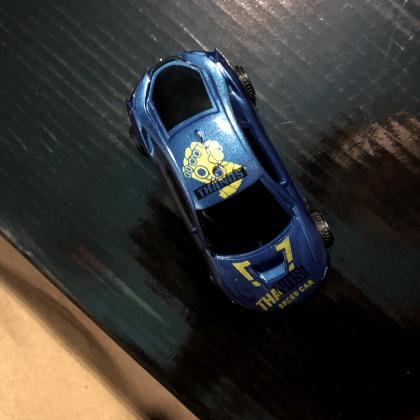Car: (125, 46, 338, 316)
